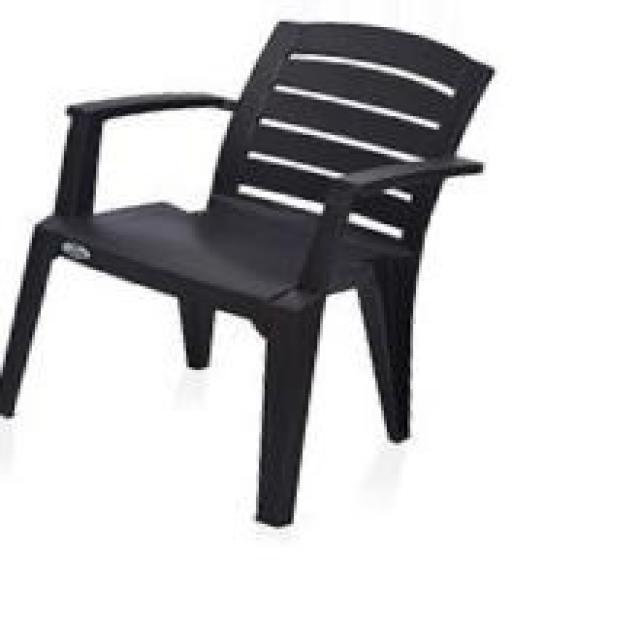chair: (2, 13, 498, 532)
